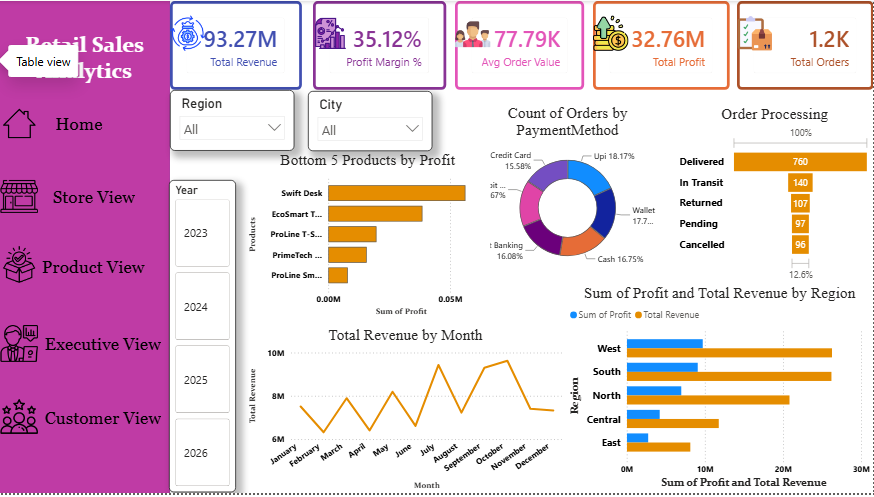

What the dashboard file says about the page in this screenshot:
{"tool":"powerbi","page":{"name":"Executive","canvas":[1280,720],"ordinal":4},"visuals":[{"type":"shape","box":[0,0,250,721.4],"z":0},{"type":"actionButton","box":[17.4,13.1,215.5,139.3],"z":1000},{"type":"actionButton","box":[69.7,152.4,93.6,54.4],"z":2000},{"type":"actionButton","box":[69.7,259,137.1,54.4],"z":3000},{"type":"actionButton","box":[58.8,361.4,158.9,54.4],"z":4000},{"type":"actionButton","box":[54.4,474.6,195.9,54.4],"z":5000},{"type":"actionButton","box":[54.4,583.4,195.9,52.2],"z":6000},{"type":"image","box":[6.5,152.4,47.9,54.4],"z":7000},{"type":"image","box":[0,259,58.8,54.4],"z":8000},{"type":"image","box":[0,359.2,58.8,54.4],"z":9000},{"type":"image","box":[0,474.6,58.8,54.4],"z":10000},{"type":"image","box":[0,581.2,58.8,54.4],"z":11000},{"type":"cardVisual","fields":{"Data":["SalesTable.Total Revenue"]},"box":[250,0,192.9,130.4],"z":12000},{"type":"cardVisual","fields":{"Data":["SalesTable.Profit Margin %"]},"box":[458.9,0,194.6,130.4],"z":13000},{"type":"cardVisual","fields":{"Data":["SalesTable.Avg Order Value"]},"box":[667.9,0,189.3,130.4],"z":14000},{"type":"cardVisual","fields":{"Data":["Sum(SalesTable.Profit)"]},"box":[869.6,0,200,130.4],"z":15000},{"type":"cardVisual","fields":{"Data":["CountNonNull(SalesTable.OrderID)"]},"box":[1080,0,200,130.4],"z":16000},{"type":"image","box":[250,12.5,51.8,67.9],"z":17000},{"type":"image","box":[458.9,12.5,51.8,67.9],"z":18000},{"type":"image","box":[1080.4,12.5,51.8,67.9],"z":19000},{"type":"image","box":[869.6,12.5,51.8,67.9],"z":20000},{"type":"image","box":[667.9,14.3,51.8,67.9],"z":21000},{"type":"lineChart","fields":{"Y":["SalesTable.Total Revenue"],"Category":["Date.Date.Variation.Date Hierarchy.Month"]},"box":[360.7,475,469.6,244.6],"z":22000},{"type":"clusteredBarChart","fields":{"Y":["Sum(SalesTable.Profit)","SalesTable.Total Revenue"],"Category":["CustomersTable.Region"]},"box":[830.4,414.3,450,305.4],"z":23000},{"type":"donutChart","title":"Count of Orders by PaymentMethod","fields":{"Category":["SalesTable.PaymentMethod"],"Y":["CountNonNull(SalesTable.OrderID)"]},"box":[694.3,151.4,277.1,254.3],"z":24000},{"type":"funnel","title":"Order Processing","fields":{"Category":["SalesTable.OrderStatus"],"Y":["CountNonNull(SalesTable.OrderID)"]},"box":[991.1,151.8,289.3,262.5],"z":25000},{"type":"barChart","title":"Bottom 5 Products by Profit","fields":{"Category":["ProductsTable.ProductName.1"],"Y":["Sum(SalesTable.Profit)"]},"box":[360.7,219.6,358.9,246.4],"z":26000},{"type":"advancedSlicerVisual","fields":{"Values":["Date.Year"]},"box":[248.2,262.5,98.2,457.1],"z":27000},{"type":"slicer","fields":{"Values":["StoresTable.Region"]},"box":[250,130.4,182.1,89.3],"z":28000},{"type":"slicer","fields":{"Values":["StoresTable.City"]},"box":[451.8,132.1,182.1,87.5],"z":29000}]}

Visuals, with their boxes on the page's 1280x720 design canvas (x1, y1, x2, y2). These are canvas units, not pixel positions in the 874x497 screenshot, which may show the page scaled, cropped or inside an application window:
shape: detection(0, 0, 250, 721)
actionButton: detection(17, 13, 233, 152)
actionButton: detection(70, 152, 163, 207)
actionButton: detection(70, 259, 207, 313)
actionButton: detection(59, 361, 218, 416)
actionButton: detection(54, 475, 250, 529)
actionButton: detection(54, 583, 250, 636)
image: detection(6, 152, 54, 207)
image: detection(0, 259, 59, 313)
image: detection(0, 359, 59, 414)
image: detection(0, 475, 59, 529)
image: detection(0, 581, 59, 636)
cardVisual - SalesTable.Total Revenue: detection(250, 0, 443, 130)
cardVisual - SalesTable.Profit Margin %: detection(459, 0, 654, 130)
cardVisual - SalesTable.Avg Order Value: detection(668, 0, 857, 130)
cardVisual - Sum(SalesTable.Profit): detection(870, 0, 1070, 130)
cardVisual - CountNonNull(SalesTable.OrderID): detection(1080, 0, 1280, 130)
image: detection(250, 12, 302, 80)
image: detection(459, 12, 511, 80)
image: detection(1080, 12, 1132, 80)
image: detection(870, 12, 921, 80)
image: detection(668, 14, 720, 82)
lineChart - SalesTable.Total Revenue x Date.Date.Variation.Date Hierarchy.Month: detection(361, 475, 830, 720)
clusteredBarChart - Sum(SalesTable.Profit) x SalesTable.Total Revenue: detection(830, 414, 1280, 720)
"Count of Orders by PaymentMethod" donutChart: detection(694, 151, 971, 406)
"Order Processing" funnel: detection(991, 152, 1280, 414)
"Bottom 5 Products by Profit" barChart: detection(361, 220, 720, 466)
advancedSlicerVisual - Date.Year: detection(248, 262, 346, 720)
slicer - StoresTable.Region: detection(250, 130, 432, 220)
slicer - StoresTable.City: detection(452, 132, 634, 220)
